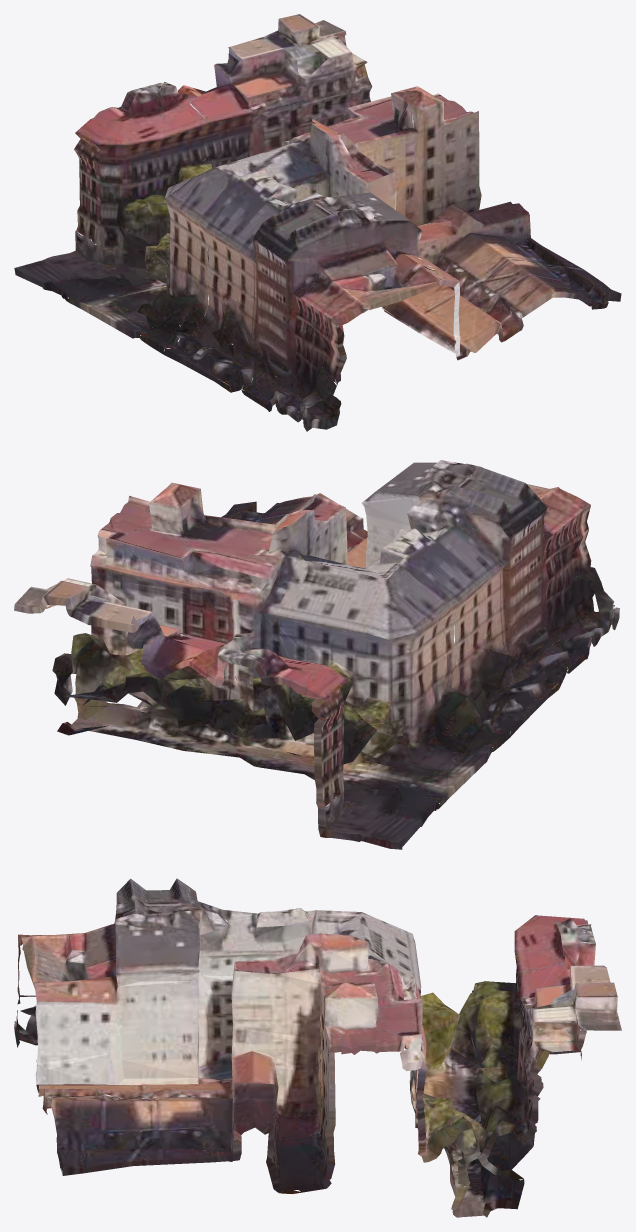
3 views of the same model, one above another, from view 1: azimuth 30°, elevation 25°; view 2: azimuth 150°, elevation 25°; view 3: azimuth 270°, elevation 25° (orthographic). The views are drawn at different scales.
Visible parts, largest first — view 1: Mesh_0; view 2: Mesh_0; view 3: Mesh_0.
Boxes of the visible parts, bbox=[...] form: Mesh_0: bbox=[14, 14, 621, 431]; Mesh_0: bbox=[14, 460, 619, 849]; Mesh_0: bbox=[14, 878, 621, 1217].
Bounding box in the file's own units: 66.85 × 32.19 × 82.61.
Materials: 2 (2 with a texture image).
